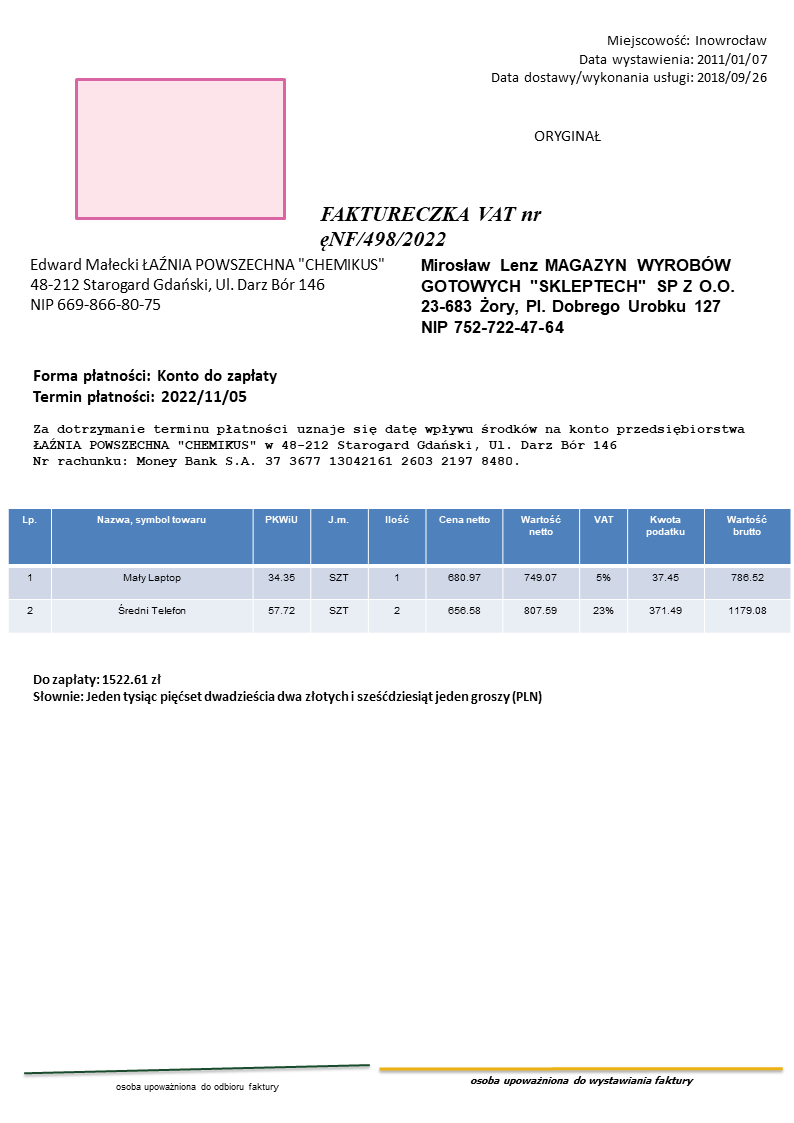Table: (6, 507, 794, 634)
TextBox: (29, 419, 748, 467), (419, 256, 737, 336), (28, 254, 385, 315), (29, 670, 543, 707), (489, 31, 770, 88), (316, 202, 546, 254), (29, 364, 281, 409), (468, 1071, 695, 1088), (112, 1078, 279, 1095), (531, 126, 604, 145)
